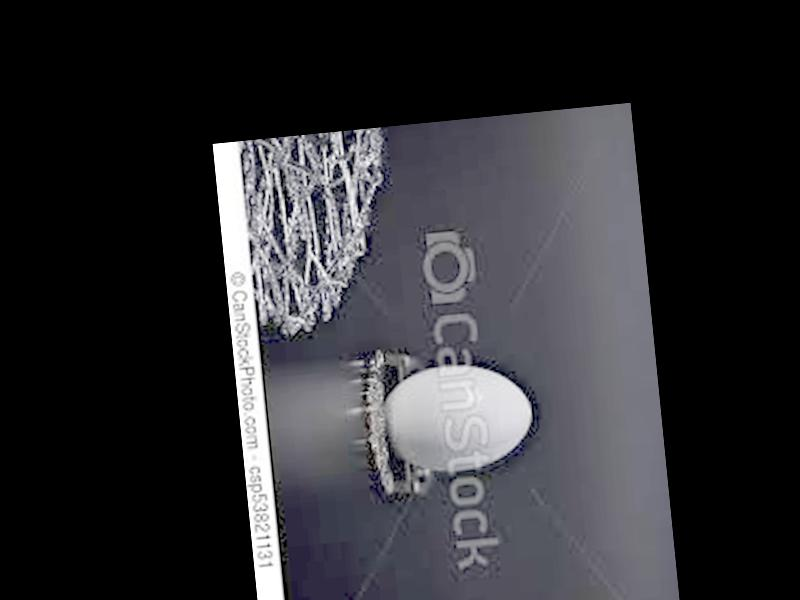Eggs: (379, 357, 536, 477)
